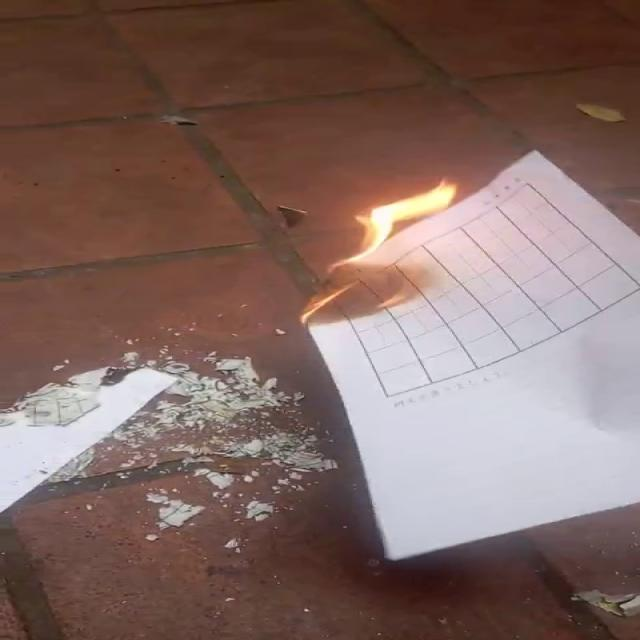Fire_Dangerous: (292, 180, 458, 324)
